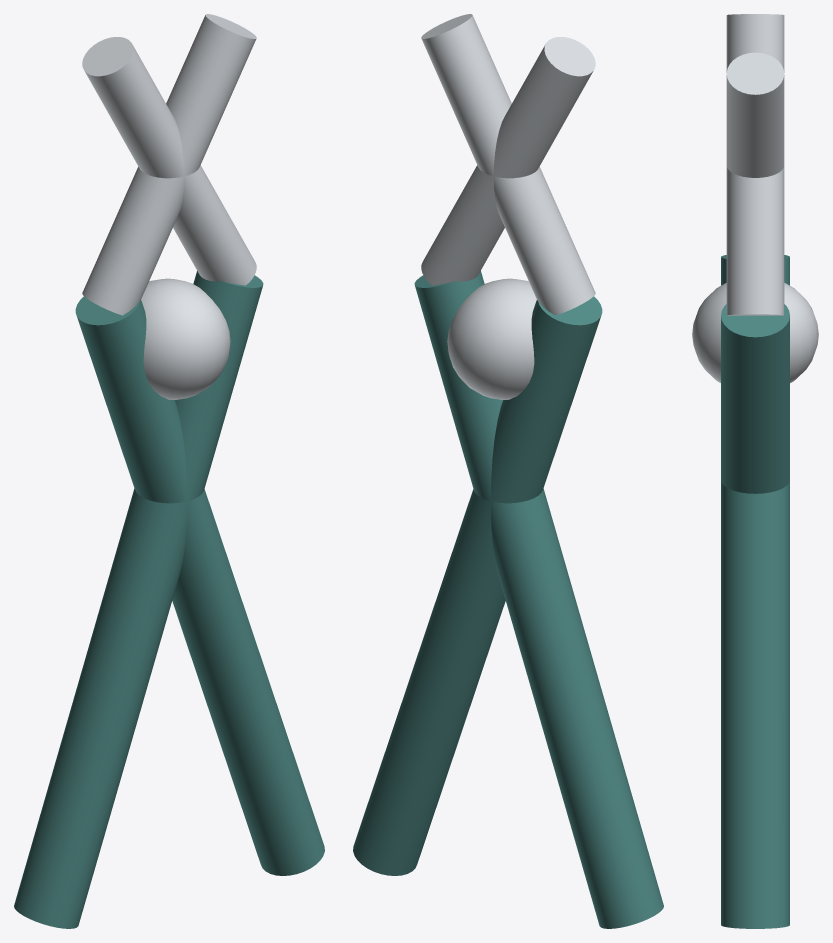
File: wp-pince-universelle.glb
The picture shows the model from 3 angles, left to right: view 1: azimuth 30°, elevation 25°; view 2: azimuth 150°, elevation 25°; view 3: azimuth 270°, elevation 25°; orthographic projection. The views are drawn at different scales.
Visible parts, largest first — view 1: wp-pince-universelle; view 2: wp-pince-universelle; view 3: wp-pince-universelle.
Part boxes in pixels (<box>): wp-pince-universelle: <box>14,14,324,928</box>; wp-pince-universelle: <box>353,14,663,928</box>; wp-pince-universelle: <box>692,14,818,928</box>.
Size of the model in its own units: 0.08 by 0.22 by 0.03.
